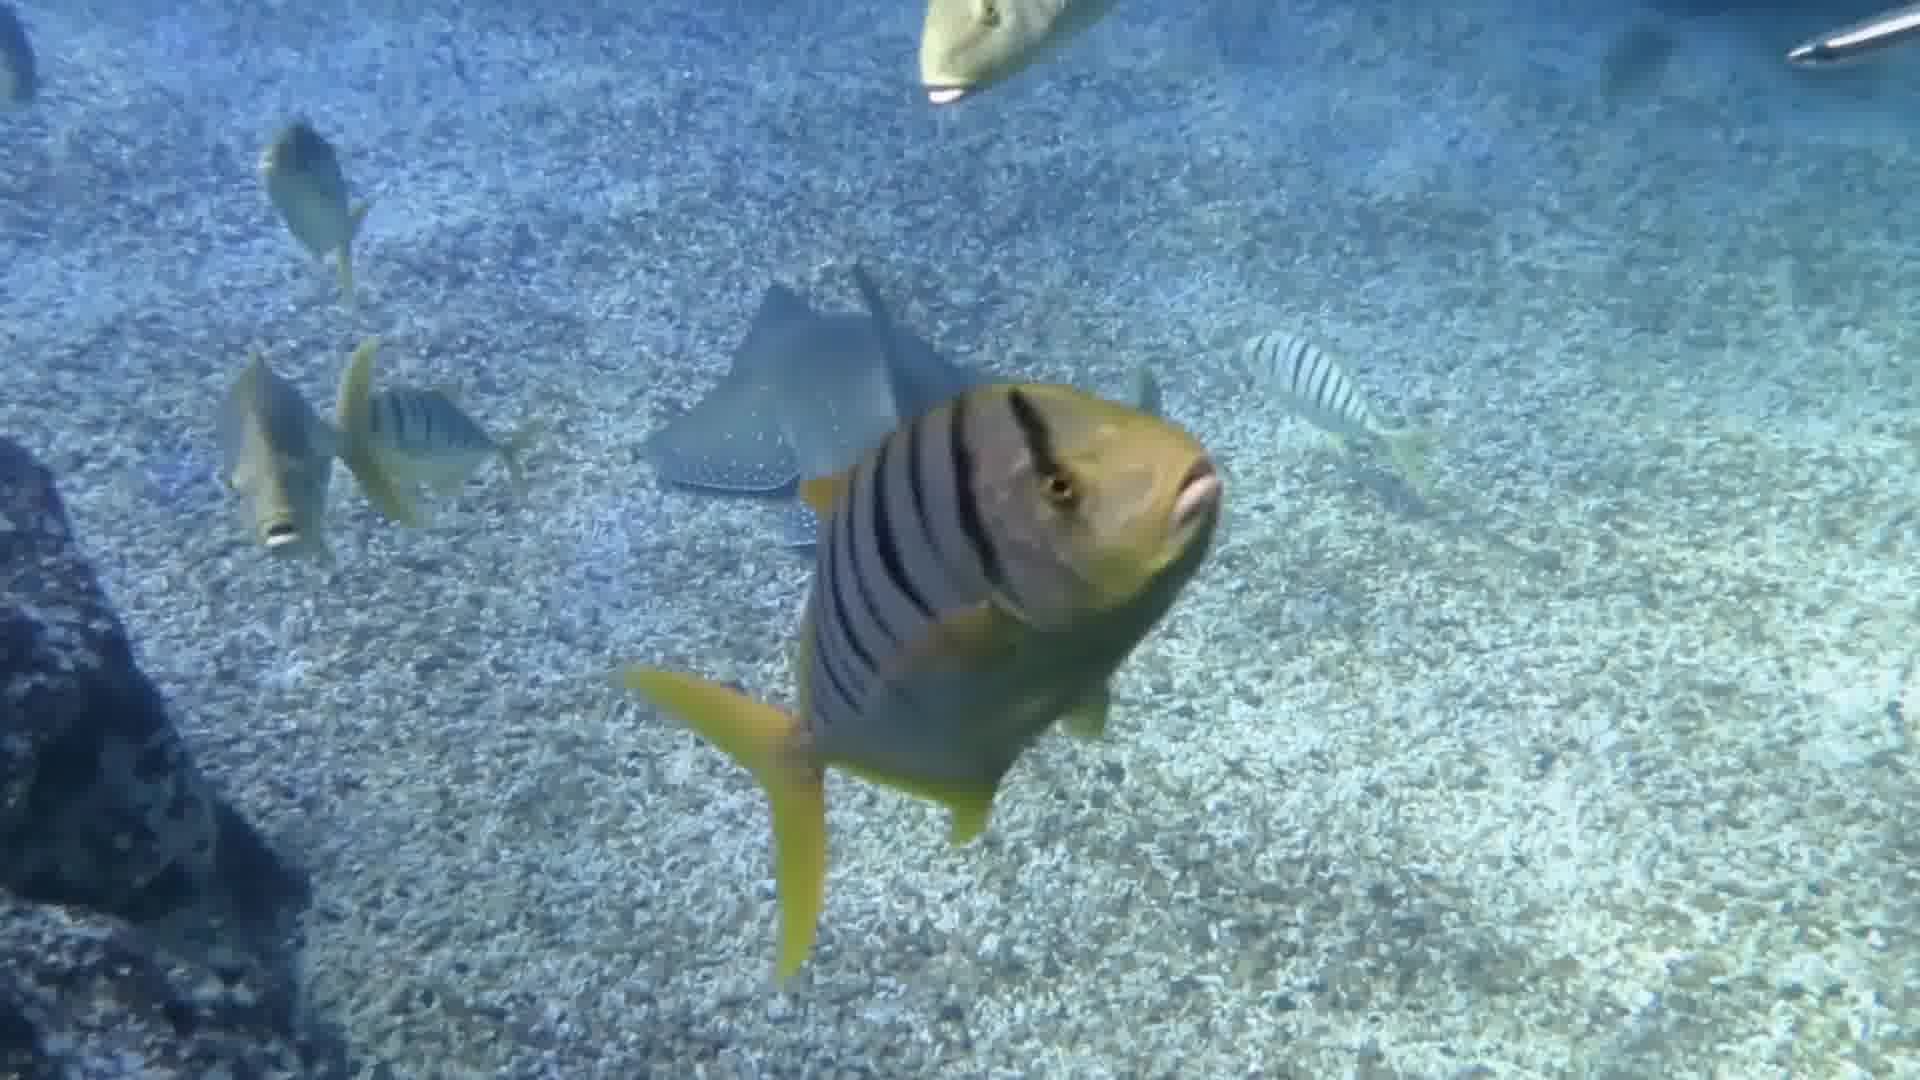Rhychobatus djiddensis: (585, 179, 1058, 442)
